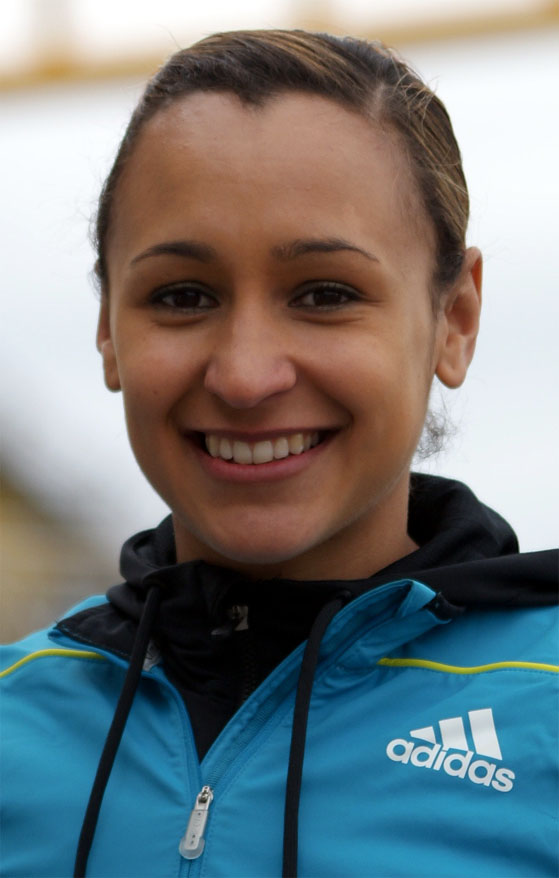Without Helmet: (74, 21, 491, 600)
